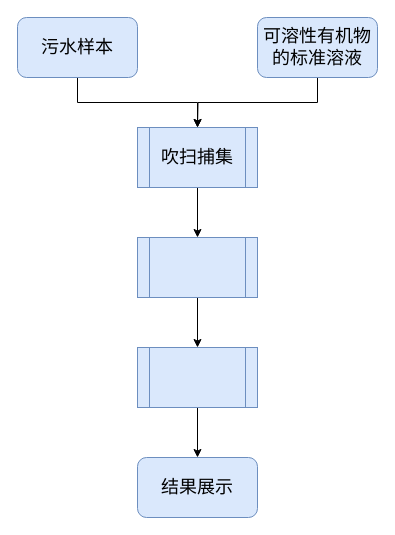
The diagram is 395 pixels wide and 535 high, and some of its shapes have lost their labels. The shapes that lost their labels are listed below. From the top down, each one's centre as x and y in pixels, then its label:
(197,267): 色谱质谱 分析
(197,377): 比对溯源
